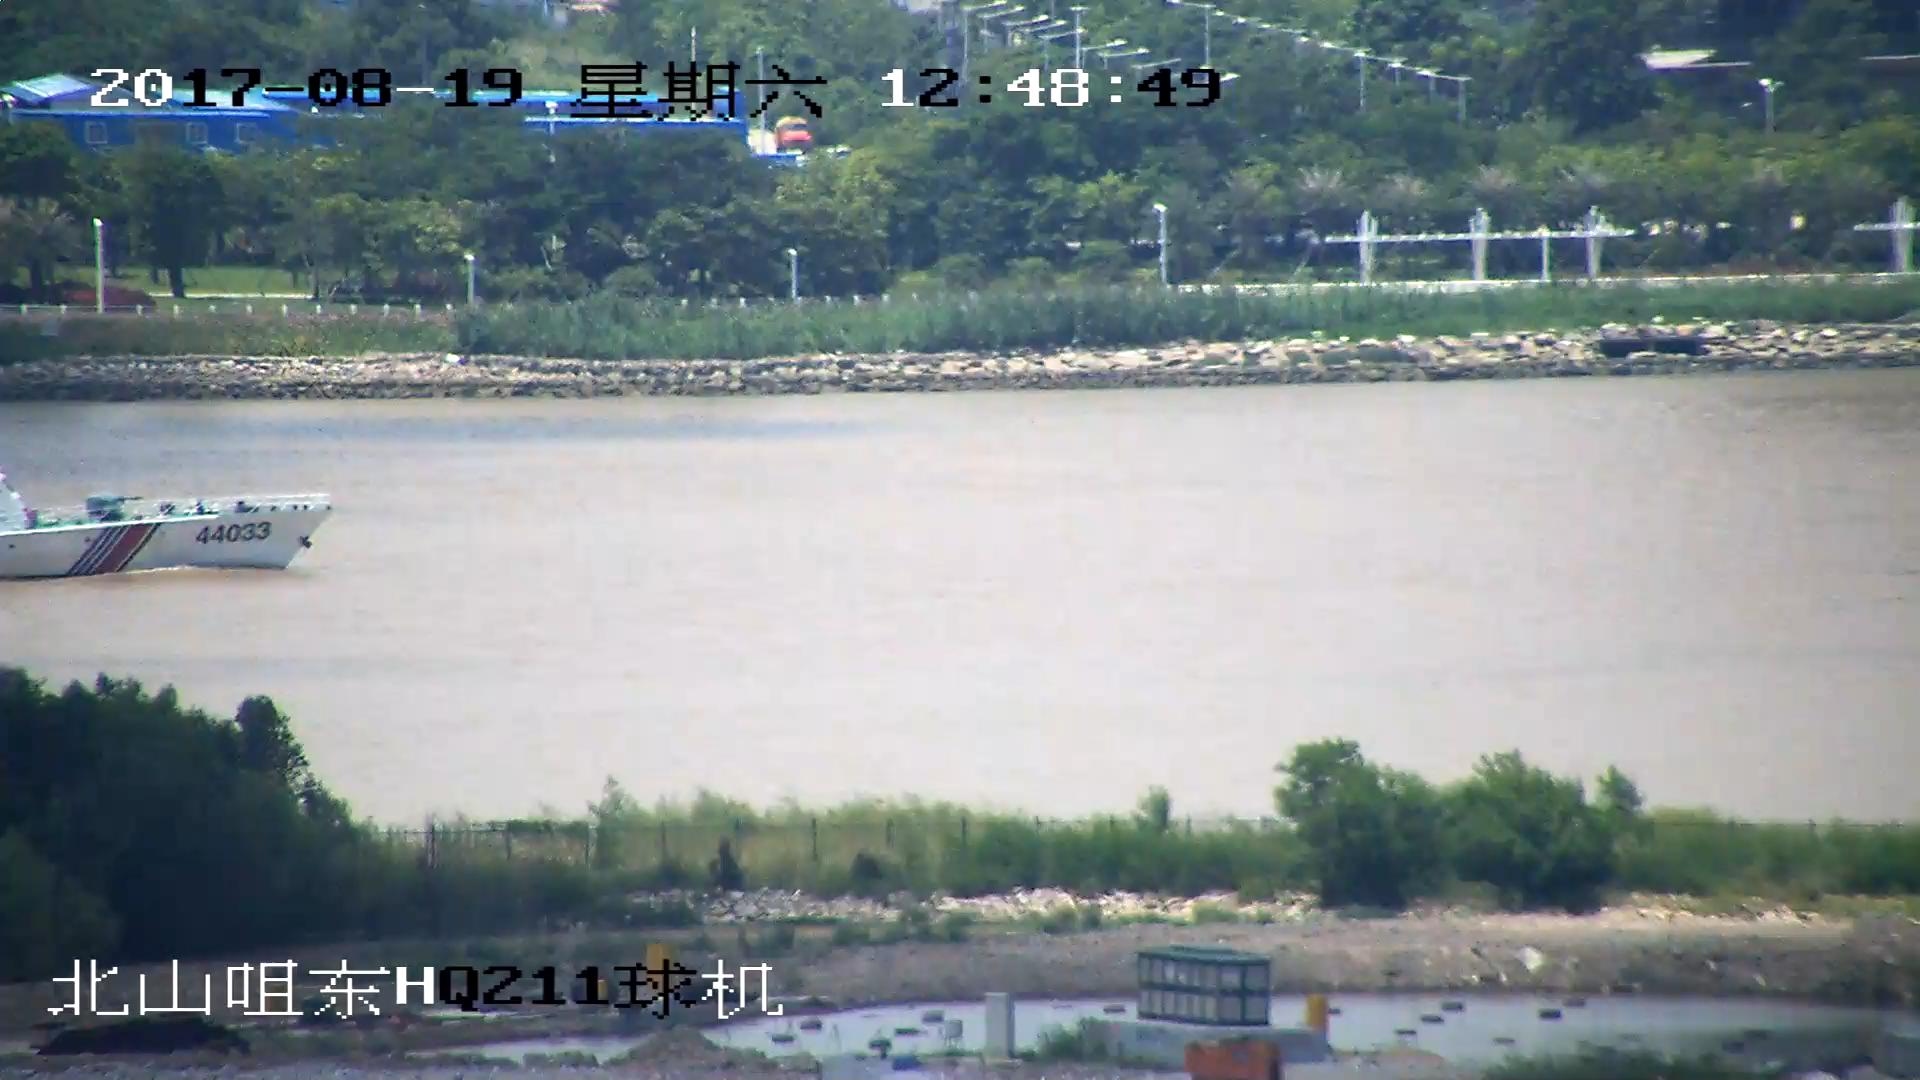passenger ship: (1, 462, 328, 574)
